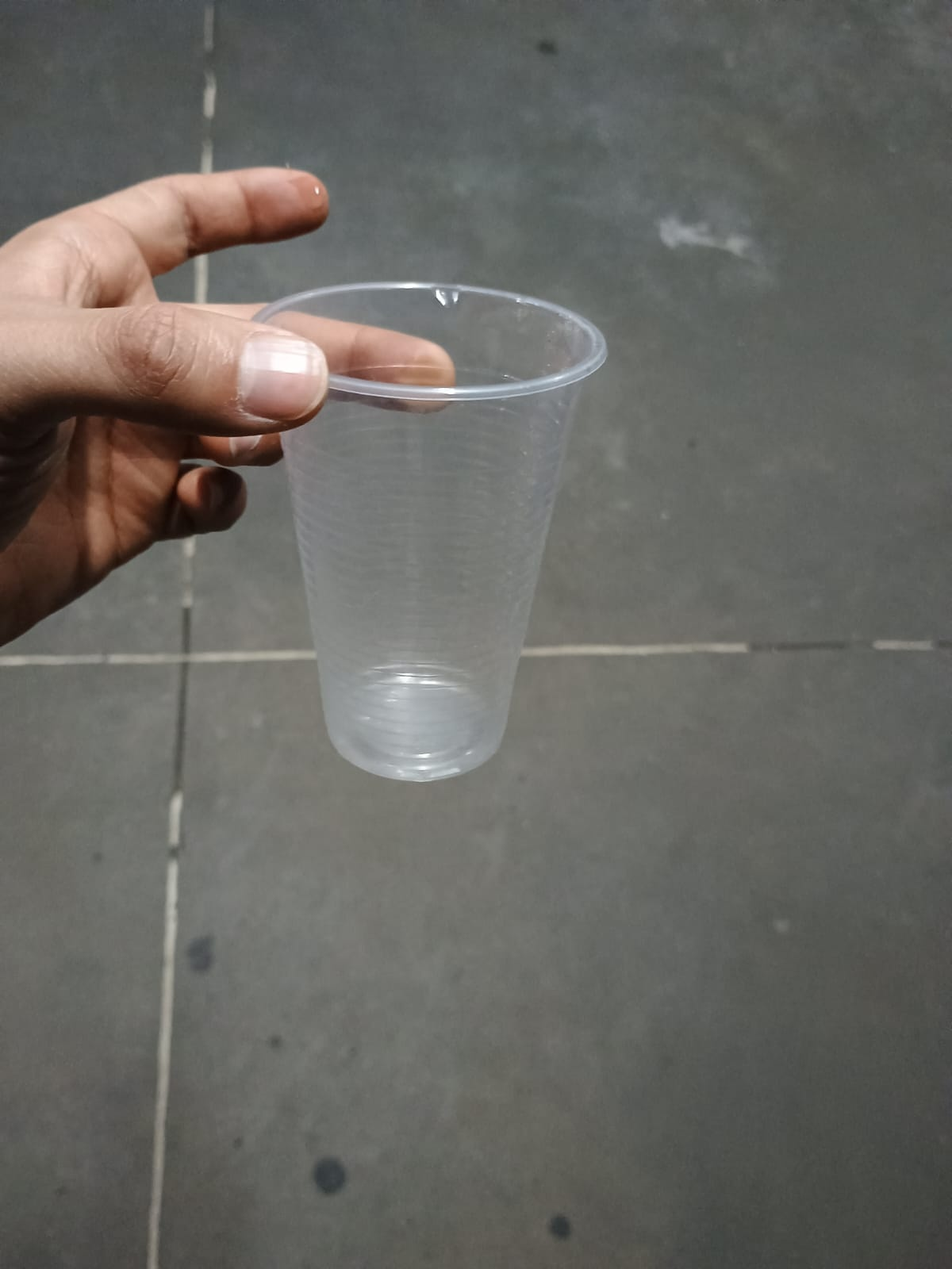Plastico: (253, 285, 609, 784)
